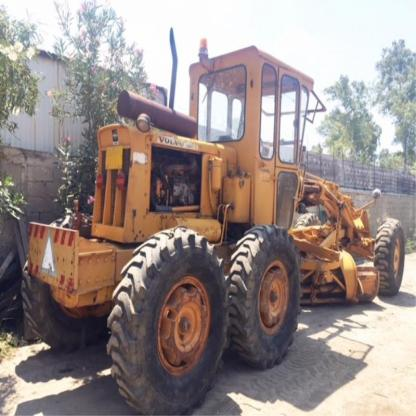bull_dozer/loader/grader: (39, 40, 411, 416)
